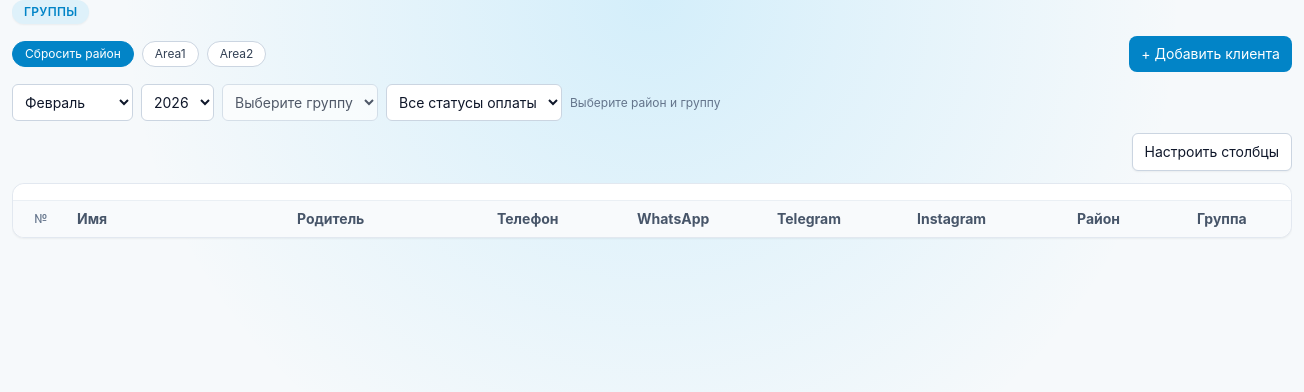
Test: GroupsTab selects the first group when an area is chosen
The width and height of the screenshot is (1304, 392).
Click the button "Area1".
click(170, 54)  # box [142,41,199,67]
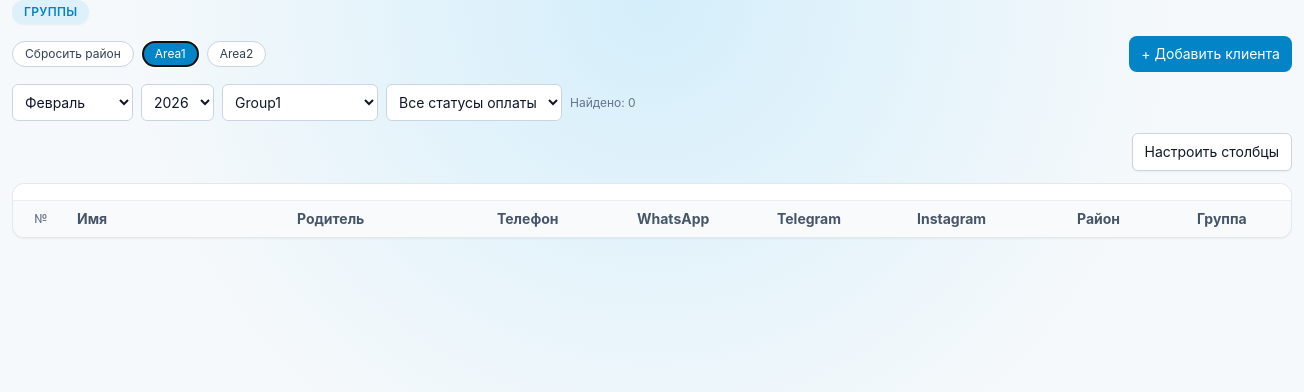
Expected: the dropdown named "Фильтр по группе" shows "Group1", [222,84,378,121]
